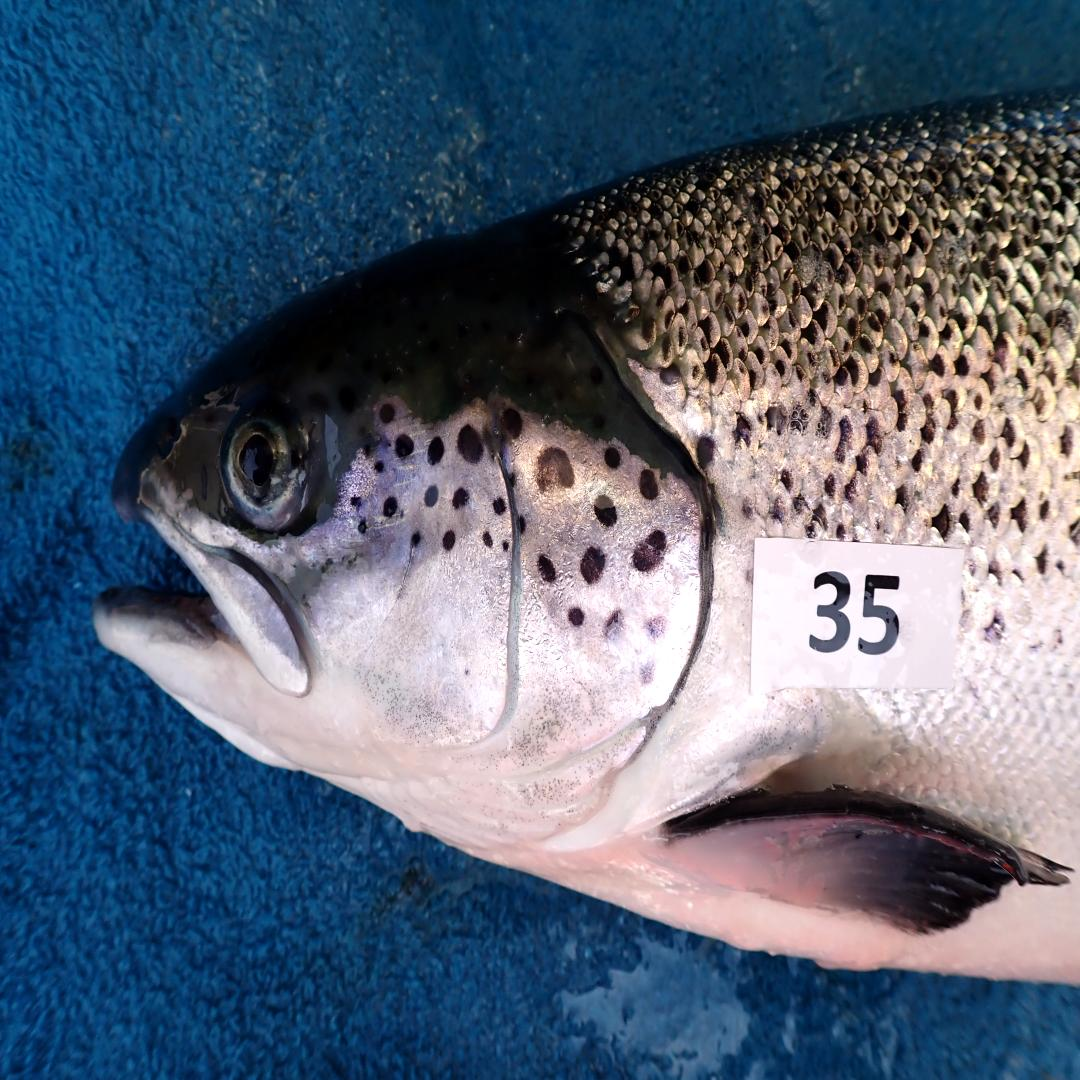roi: (308, 389, 708, 864)
